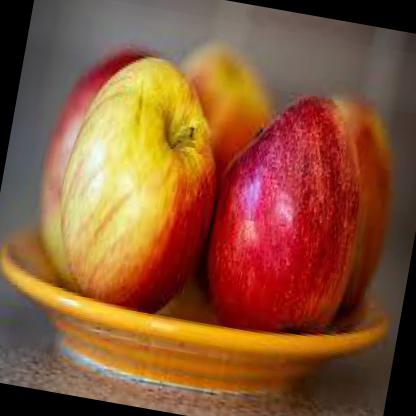apple: (41, 42, 238, 334), (196, 76, 382, 343)
